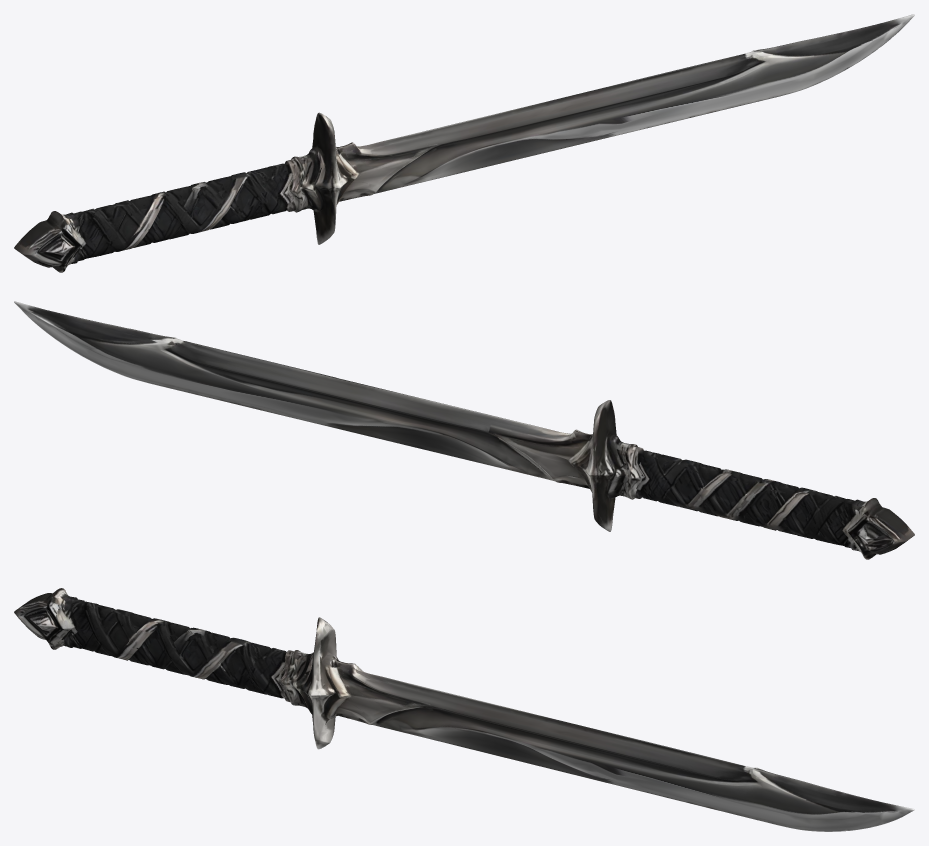
Rendered from knife_tangdao.glb.
3 views of the same model, one above another, from view 1: azimuth 30°, elevation 25°; view 2: azimuth 150°, elevation 25°; view 3: azimuth 330°, elevation 25° (orthographic).
Parts seen in each view (by area): view 1: knife_mesh; view 2: knife_mesh; view 3: knife_mesh.
Part boxes in pixels (bbox=[...]): knife_mesh: bbox=[14, 14, 914, 272]; knife_mesh: bbox=[14, 301, 914, 559]; knife_mesh: bbox=[14, 588, 914, 831].
Size of the model in its own units: 1.2 by 0.1687 by 0.0676.
Materials: 1 (1 with a texture image).
